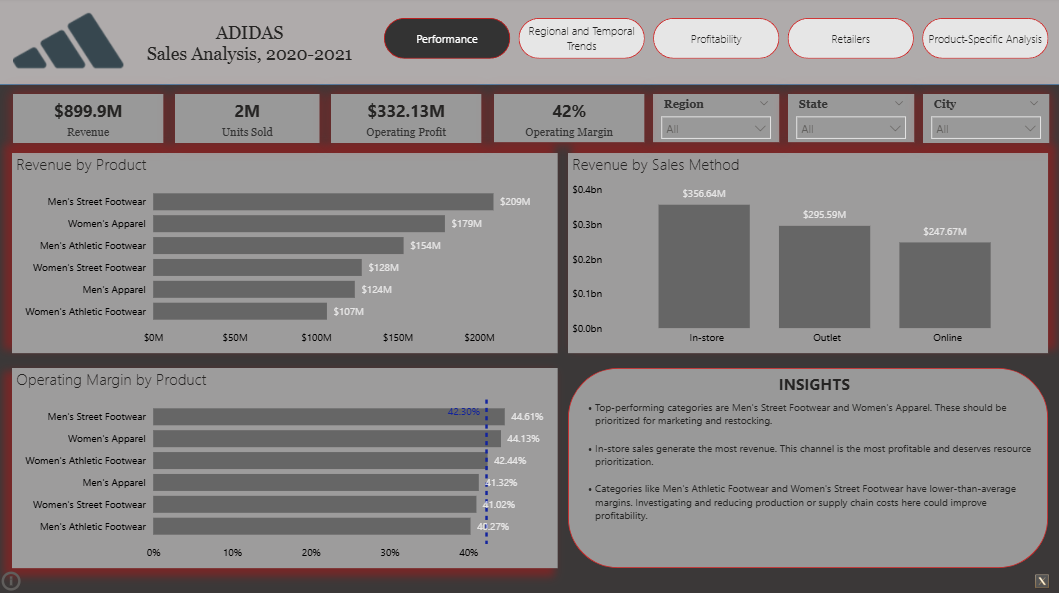

The dashboard page shown, as its layout file describes it:
{"tool":"powerbi","page":{"name":"Performance","canvas":[1280,720],"ordinal":0},"visuals":[{"type":"slicer","fields":{"Values":["Data.Region"]},"box":[788,116.5,151.8,58.3],"z":0,"group":"g2"},{"type":"shape","box":[686.5,447,578.1,240.9],"z":0,"group":"g1"},{"type":"slicer","fields":{"Values":["Data.State"]},"box":[950.4,116.5,151.8,58.3],"z":1000,"group":"g2"},{"type":"clusteredBarChart","title":"Revenue by Product","fields":{"Category":["Data.Product"],"Y":["Sum(Data.Total Sales)"]},"box":[17.4,187.4,657.1,240.9],"z":1000},{"type":"textbox","box":[833.7,448.2,299.8,34.8],"z":1000,"group":"g1"},{"type":"slicer","fields":{"Values":["Data.City"]},"box":[1113.4,116.5,151.9,59],"z":2000,"group":"g2"},{"type":"columnChart","title":"Revenue by Sales Method","fields":{"Y":["Sum(Data.Total Sales)"],"Category":["Data.Sales Method"]},"box":[686.5,187.4,578.1,240.9],"z":2000},{"type":"textbox","box":[696.5,481,558.1,162.3],"z":2000,"group":"g1"},{"type":"card","fields":{"Values":["Sum(Data.Total Sales)"]},"box":[17.8,116.7,181.1,58.9],"z":3000,"group":"g2"},{"type":"clusteredBarChart","title":"Operating Margin by Product","fields":{"Y":["Avg(Data.Operating Margin)"],"Category":["Data.Product"]},"box":[17.4,447,657.1,240.9],"z":3000},{"type":"card","fields":{"Values":["Sum(Data.Units Sold)"]},"box":[213.4,116.7,174.4,58.9],"z":4000,"group":"g2"},{"type":"card","fields":{"Values":["Sum(Data.Operating Profit)"]},"box":[401.1,116.7,181.1,58.9],"z":5000,"group":"g2"},{"type":"card","fields":{"Values":["Avg(Data.Operating Margin)"]},"box":[596.3,116.5,180.9,58.3],"z":6000,"group":"g2"},{"type":"pageNavigator","box":[464.4,25.4,800.3,49.5],"z":8000},{"type":"actionButton","box":[0,688,35.3,31.6],"z":9000},{"type":"textbox","box":[168.6,25.3,268.5,61.4],"z":10000},{"type":"image","box":[1233.9,687.9,45.5,32.1],"z":11000},{"type":"group","id":"g1","title":"Group 1","box":[686.5,447,578.1,240.9],"z":11005},{"type":"group","id":"g2","title":"Group 2","box":[17.8,116.5,1247.5,59.1],"z":11012}]}

Visuals, with their boxes in screenshot pixels (x1, y1, x2, y2), scaled from the page's 1280x720 canvas onto the 1059x593 screenshot:
slicer - Data.Region: {"x1": 652, "y1": 96, "x2": 778, "y2": 144}
shape: {"x1": 568, "y1": 368, "x2": 1046, "y2": 567}
slicer - Data.State: {"x1": 786, "y1": 96, "x2": 912, "y2": 144}
"Revenue by Product" clusteredBarChart: {"x1": 14, "y1": 154, "x2": 558, "y2": 353}
textbox: {"x1": 690, "y1": 369, "x2": 938, "y2": 398}
slicer - Data.City: {"x1": 921, "y1": 96, "x2": 1047, "y2": 145}
"Revenue by Sales Method" columnChart: {"x1": 568, "y1": 154, "x2": 1046, "y2": 353}
textbox: {"x1": 576, "y1": 396, "x2": 1038, "y2": 530}
card - Sum(Data.Total Sales): {"x1": 15, "y1": 96, "x2": 165, "y2": 145}
"Operating Margin by Product" clusteredBarChart: {"x1": 14, "y1": 368, "x2": 558, "y2": 567}
card - Sum(Data.Units Sold): {"x1": 177, "y1": 96, "x2": 321, "y2": 145}
card - Sum(Data.Operating Profit): {"x1": 332, "y1": 96, "x2": 482, "y2": 145}
card - Avg(Data.Operating Margin): {"x1": 493, "y1": 96, "x2": 643, "y2": 144}
pageNavigator: {"x1": 384, "y1": 21, "x2": 1046, "y2": 62}
actionButton: {"x1": 0, "y1": 567, "x2": 29, "y2": 592}
textbox: {"x1": 139, "y1": 21, "x2": 362, "y2": 71}
image: {"x1": 1021, "y1": 567, "x2": 1058, "y2": 592}
"Group 1" group: {"x1": 568, "y1": 368, "x2": 1046, "y2": 567}
"Group 2" group: {"x1": 15, "y1": 96, "x2": 1047, "y2": 145}
